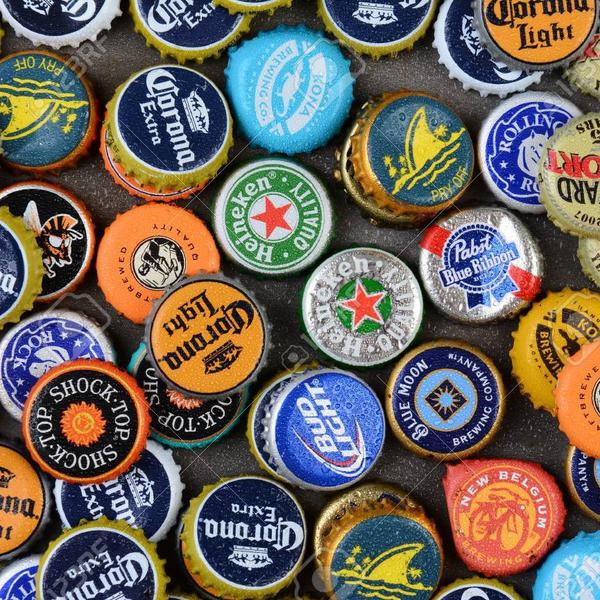corona: (184, 473, 310, 596), (108, 62, 230, 175), (34, 519, 164, 600)
heineken: (214, 156, 333, 279), (304, 247, 420, 365)
